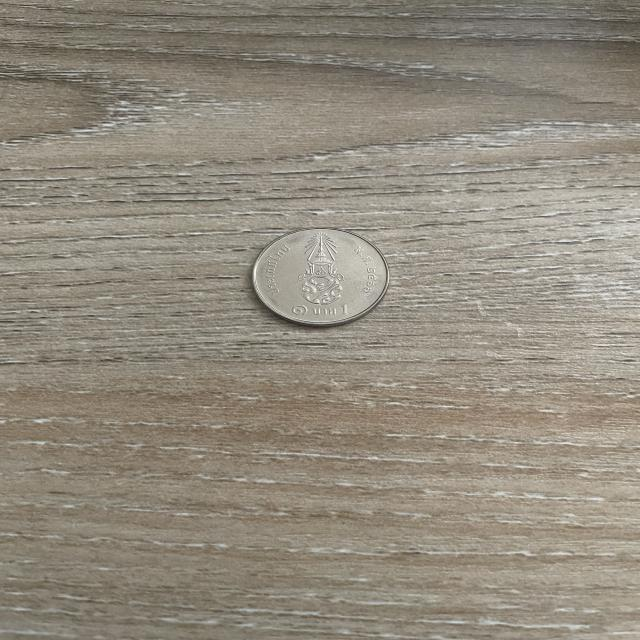1 Bath: (243, 217, 402, 335)
